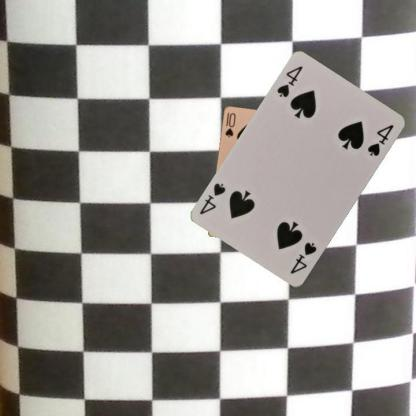10s: (222, 110, 237, 138)
4s: (288, 240, 318, 275), (274, 64, 304, 98)
